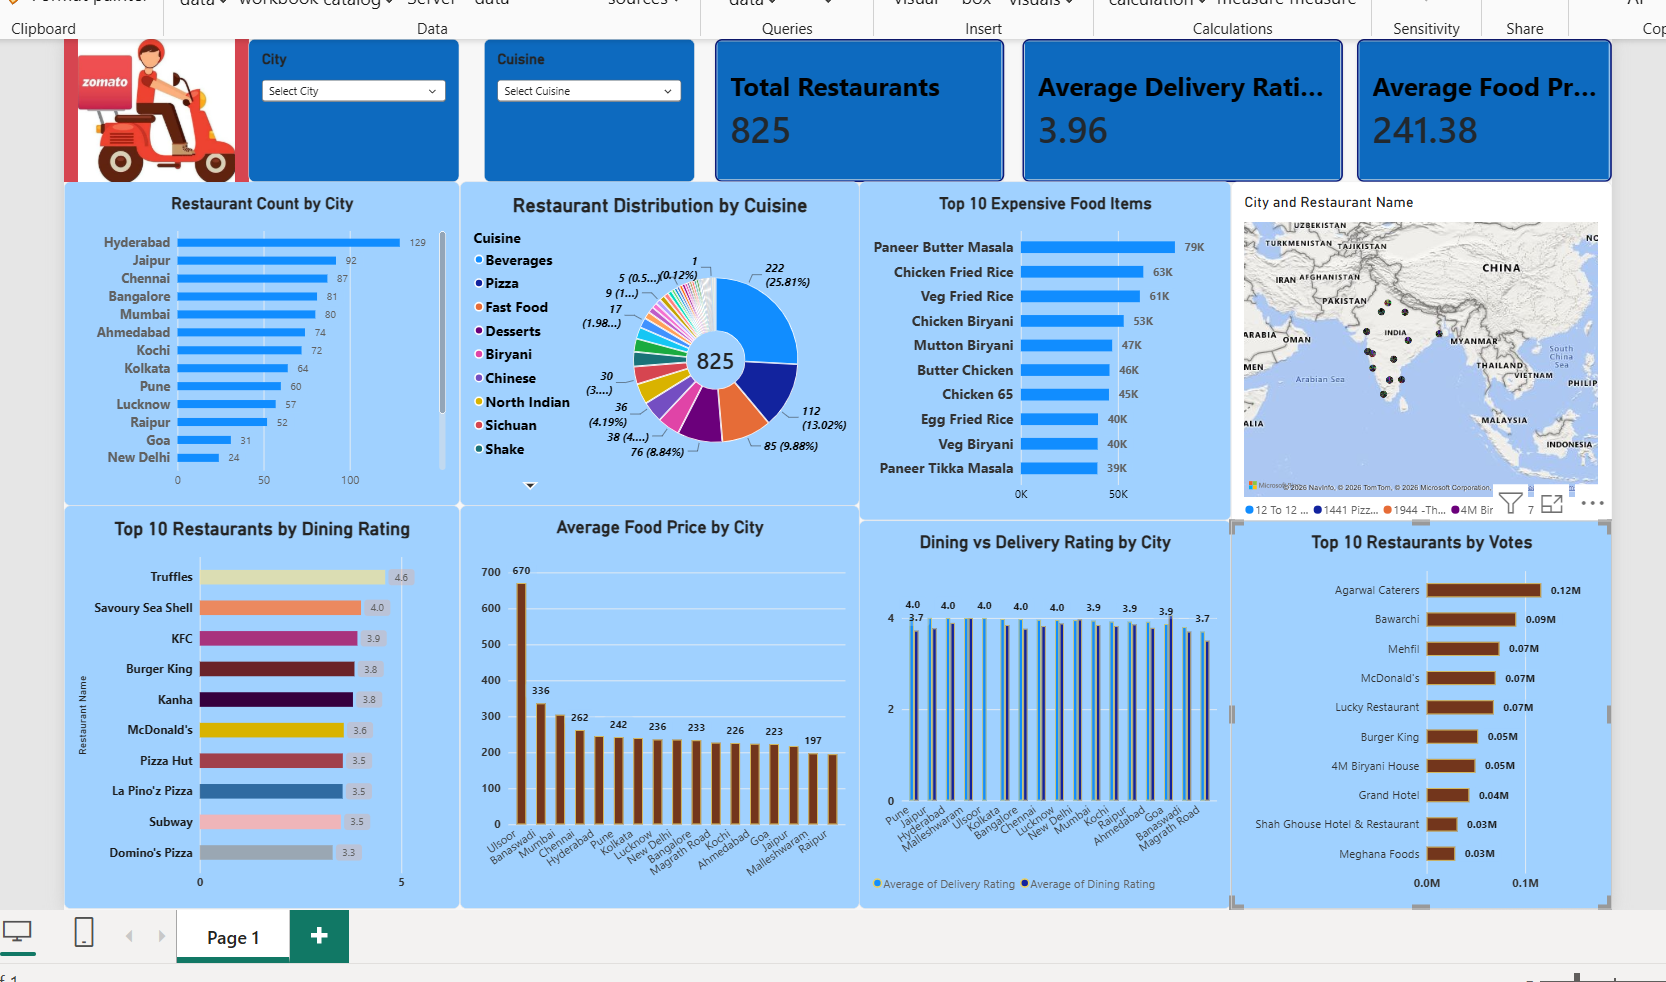

The page's visual inventory and layout, read from the dashboard file:
{"tool":"powerbi","page":{"name":"Page 1","canvas":[1920,1080],"ordinal":0},"visuals":[{"type":"cardVisual","fields":{"Data":["Count(Zomato.Restaurant Name)"]},"box":[806.3,0,358.9,177.2],"z":0},{"type":"cardVisual","fields":{"Data":["Avg(Zomato.Delivery Rating)"]},"box":[1187.9,0,397.5,177.2],"z":1000},{"type":"cardVisual","fields":{"Data":["Avg(Zomato.Prices)"]},"box":[1603.5,0,315.7,177.2],"z":2000},{"type":"clusteredBarChart","title":"Restaurant Count by City","fields":{"Category":["Zomato.City"],"Y":["Count(Zomato.Restaurant Name)"]},"box":[0,177.2,490.6,402],"z":3000},{"type":"donutChart","title":"Restaurant Distribution by Cuisine","fields":{"Category":["Zomato.Cuisine "],"Y":["Count(Zomato.Restaurant Name)"]},"box":[490.6,177.2,495.1,402],"z":4000},{"type":"clusteredBarChart","title":"Top 10 Expensive Food Items","fields":{"Category":["Zomato.Item Name"],"Y":["Sum(Zomato.Prices)"]},"box":[985.7,177.2,461.1,420.2],"z":5000},{"type":"clusteredBarChart","title":"Top 10 Restaurants by Dining Rating","fields":{"Category":["Zomato.Restaurant Name"],"Y":["Avg(Zomato.Dining Rating)"]},"box":[0,579.2,490.6,499.7],"z":6000},{"type":"clusteredColumnChart","title":"Average Food Price by City","fields":{"Category":["Zomato.City"],"Y":["Avg(Zomato.Prices)"]},"box":[490.6,579.2,495.1,499.7],"z":7000},{"type":"clusteredColumnChart","title":"Dining vs Delivery Rating by City","fields":{"Category":["Zomato.City"],"Y":["Avg(Zomato.Delivery Rating)","Avg(Zomato.Dining Rating)"]},"box":[985.7,597.4,461.1,481.5],"z":8000},{"type":"image","box":[0,0,229.4,177.2],"z":9000},{"type":"listSlicer","fields":{"Values":["Zomato.City"]},"box":[229.4,0,261.2,177.2],"z":10000},{"type":"listSlicer","fields":{"Values":["Zomato.Cuisine "]},"box":[520.1,0,261.2,177.2],"z":11000},{"type":"map","fields":{"Category":["Zomato.City"],"Series":["Zomato.Restaurant Name"]},"box":[1446.8,177.2,472.4,438.4],"z":11001},{"type":"clusteredBarChart","title":"Top 10 Restaurants by Votes","fields":{"Category":["Zomato.Restaurant Name"],"Y":["Sum(Zomato.Votes)"]},"box":[1446.8,597.4,472.4,481.5],"z":11002}]}

Visuals, with their boxes on the page's 1920x1080 design canvas (x1, y1, x2, y2). These are canvas units, not pixel positions in the 1666x982 screenshot, which may show the page scaled, cropped or inside an application window:
cardVisual - Count(Zomato.Restaurant Name): [left=806, top=0, right=1165, bottom=177]
cardVisual - Avg(Zomato.Delivery Rating): [left=1188, top=0, right=1585, bottom=177]
cardVisual - Avg(Zomato.Prices): [left=1604, top=0, right=1919, bottom=177]
"Restaurant Count by City" clusteredBarChart: [left=0, top=177, right=491, bottom=579]
"Restaurant Distribution by Cuisine" donutChart: [left=491, top=177, right=986, bottom=579]
"Top 10 Expensive Food Items" clusteredBarChart: [left=986, top=177, right=1447, bottom=597]
"Top 10 Restaurants by Dining Rating" clusteredBarChart: [left=0, top=579, right=491, bottom=1079]
"Average Food Price by City" clusteredColumnChart: [left=491, top=579, right=986, bottom=1079]
"Dining vs Delivery Rating by City" clusteredColumnChart: [left=986, top=597, right=1447, bottom=1079]
image: [left=0, top=0, right=229, bottom=177]
listSlicer - Zomato.City: [left=229, top=0, right=491, bottom=177]
listSlicer - Zomato.Cuisine : [left=520, top=0, right=781, bottom=177]
map - Zomato.City x Zomato.Restaurant Name: [left=1447, top=177, right=1919, bottom=616]
"Top 10 Restaurants by Votes" clusteredBarChart: [left=1447, top=597, right=1919, bottom=1079]
